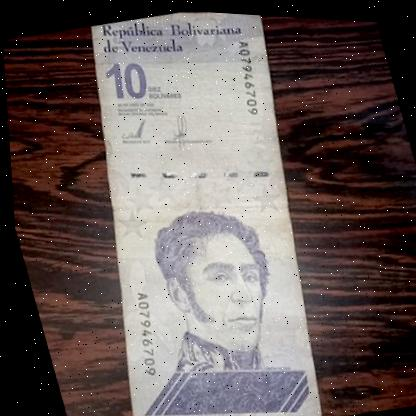ten-front-vef: (26, 1, 364, 416)
